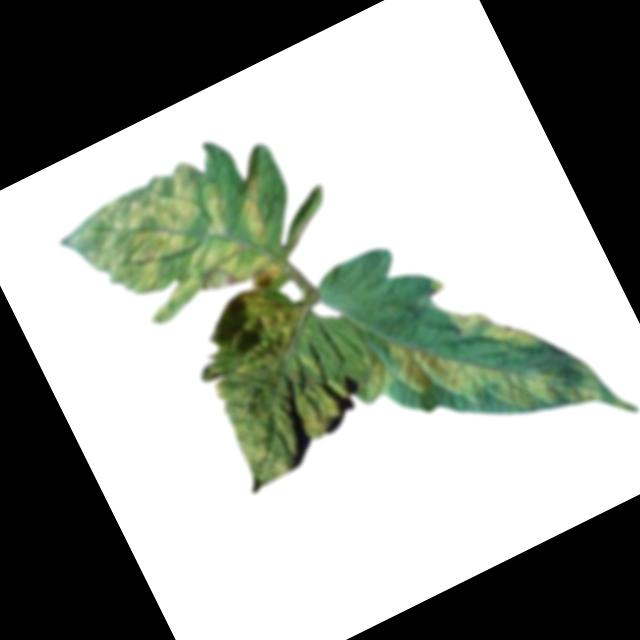Leaf_Mold: (344, 259, 609, 494), (50, 128, 308, 352), (169, 268, 368, 495), (445, 281, 537, 373)
